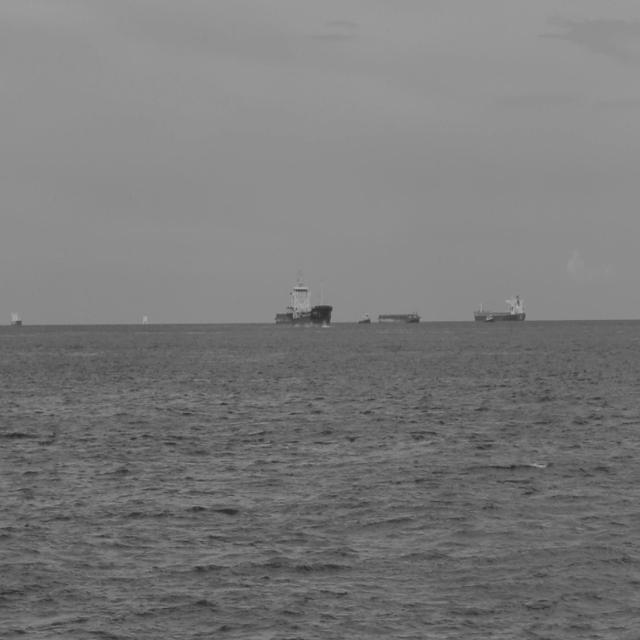ship: (274, 270, 332, 328), (474, 292, 528, 326), (375, 308, 420, 328), (9, 308, 23, 329)
